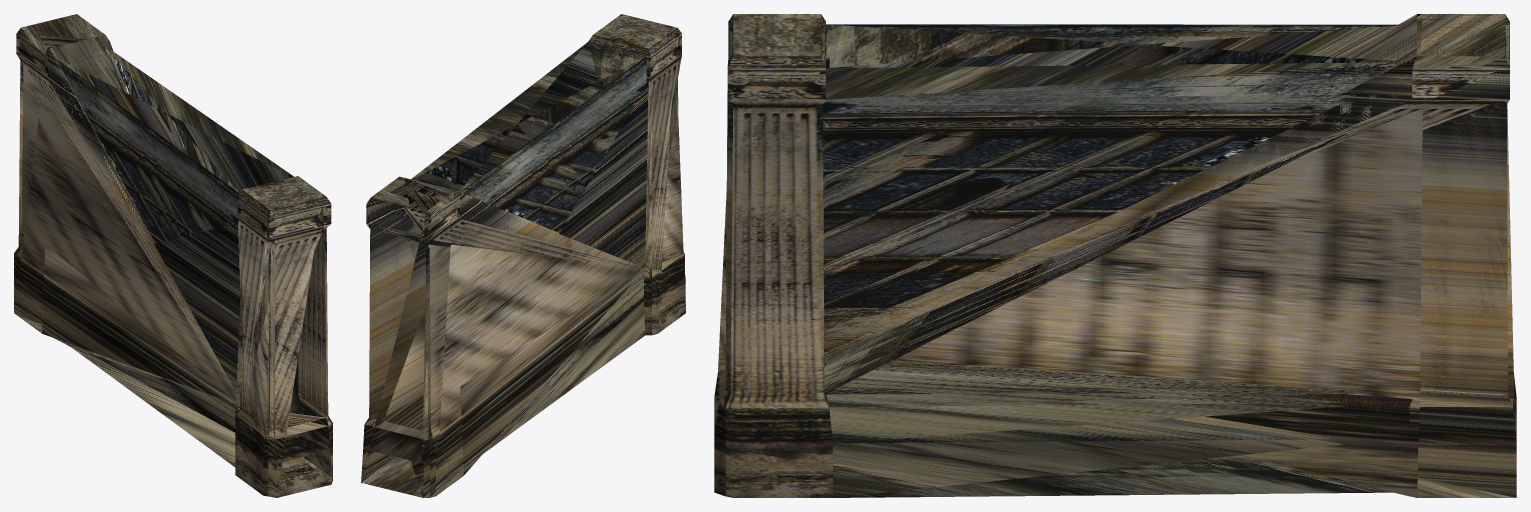
The model's file is sf_w_wall.FBX.
3 renders of one model, left to right at view 1: azimuth 30°, elevation 25°; view 2: azimuth 150°, elevation 25°; view 3: azimuth 270°, elevation 25°, orthographic. The views are drawn at different scales.
Visible parts, largest first — view 1: Box10; view 2: Box10; view 3: Box10.
Part boxes in pixels (<box>): Box10: <box>14,14,332,497</box>; Box10: <box>361,14,685,497</box>; Box10: <box>714,14,1516,497</box>.
Size of the model in its own units: 38.95 by 151 by 252.
Materials: 1 (1 with a texture image).
